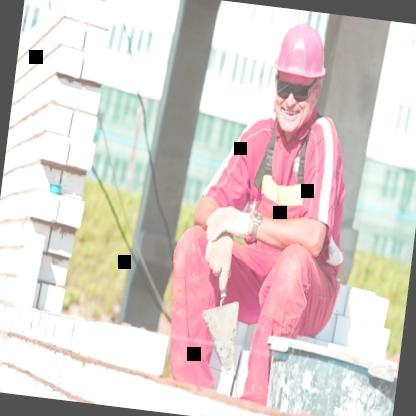helmet: (257, 8, 336, 142)
